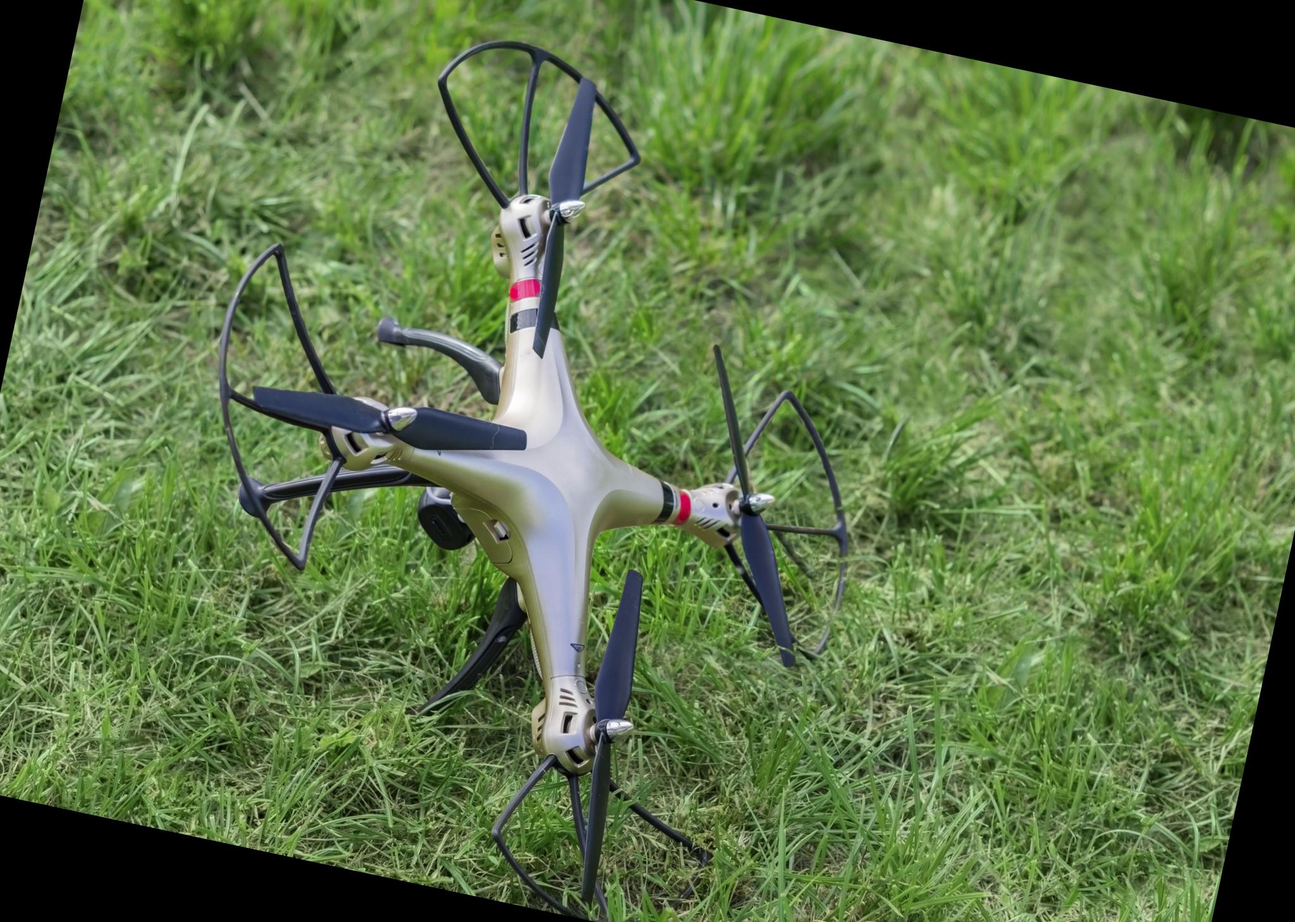drone: (78, 0, 945, 869)
